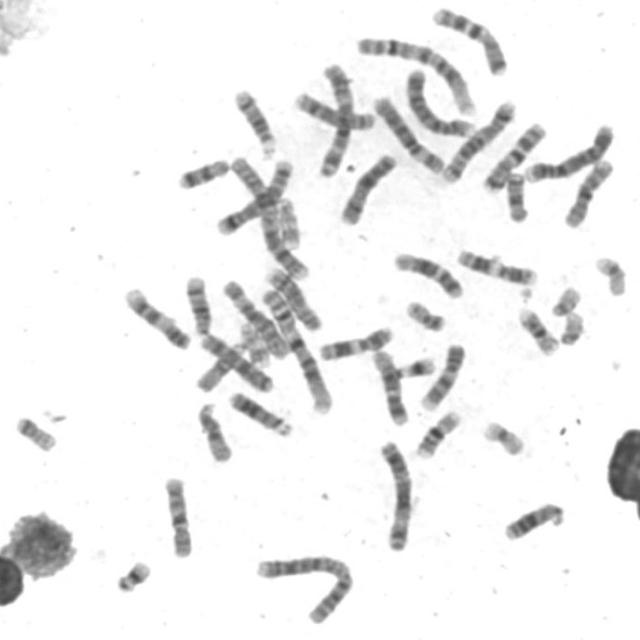A1: (353, 31, 480, 118), (257, 283, 335, 416)
A2: (226, 151, 312, 282), (250, 548, 356, 626)
A3: (312, 59, 356, 179), (374, 434, 416, 553)
B4: (520, 120, 617, 184), (400, 62, 478, 139)
B5: (437, 94, 519, 185), (214, 155, 296, 238)
C10: (559, 154, 617, 231), (159, 472, 196, 560)
C11: (452, 244, 540, 287), (315, 322, 397, 362)
C12: (388, 247, 466, 300), (368, 344, 411, 428)
C6: (368, 91, 446, 175), (219, 274, 292, 362)
C7: (426, 2, 511, 77), (478, 117, 550, 194)
C8: (261, 262, 325, 333), (289, 86, 377, 132)
C9: (119, 282, 193, 352), (416, 339, 468, 412)
D13: (223, 386, 294, 438), (500, 498, 568, 543)
D14: (229, 83, 279, 159), (181, 270, 214, 336)
D15: (192, 336, 250, 394), (193, 398, 236, 465)
E16: (411, 405, 464, 460), (514, 303, 562, 357)
E17: (236, 318, 271, 368), (273, 194, 300, 255)
E18: (173, 152, 232, 191), (501, 168, 531, 225)
F19: (478, 416, 528, 458), (590, 251, 630, 297)
F20: (10, 410, 60, 453), (401, 295, 449, 334)
G21: (111, 556, 154, 594), (388, 352, 438, 381)
G22: (547, 282, 583, 318), (555, 308, 587, 347)
X: (196, 330, 276, 394), (334, 150, 399, 227)
